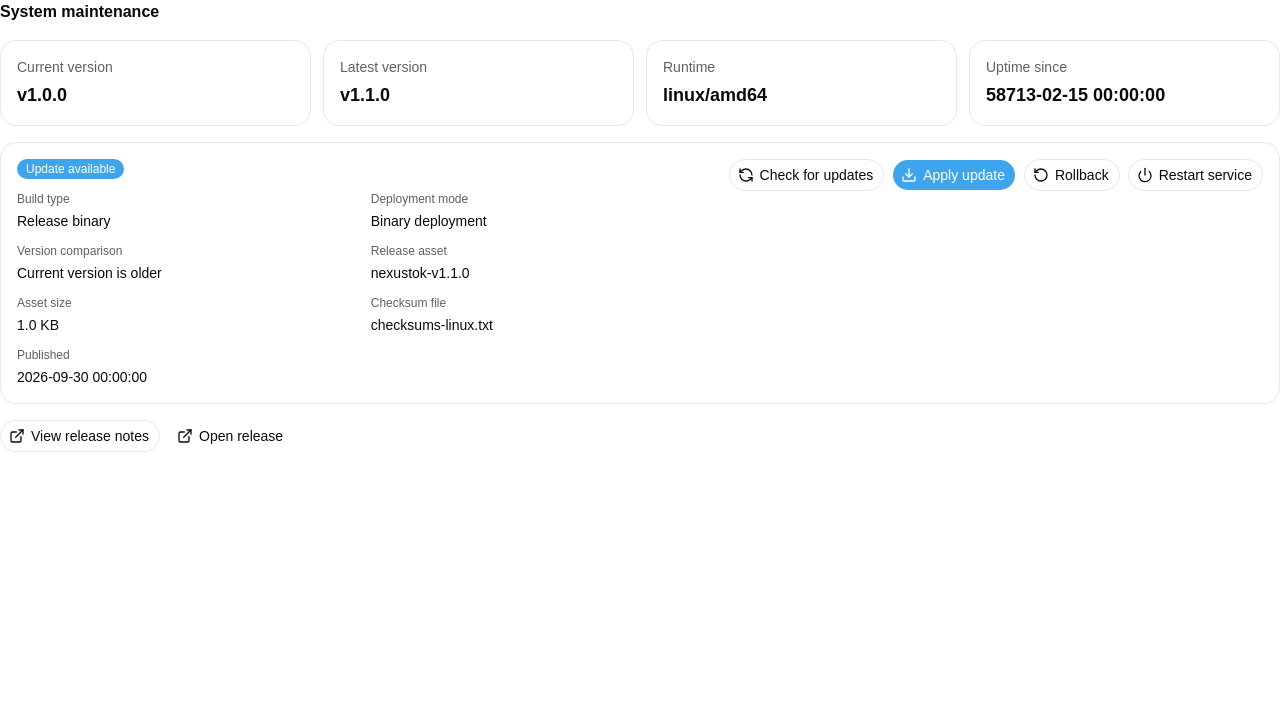
Test: UpdateCheckerSection › requires confirmation before applying an update and polls the system task
Expected: the text "v1.1.0" is shown, [340,85,390,105]
Click the button "Apply update": point(954, 175) [892,159,1016,191]
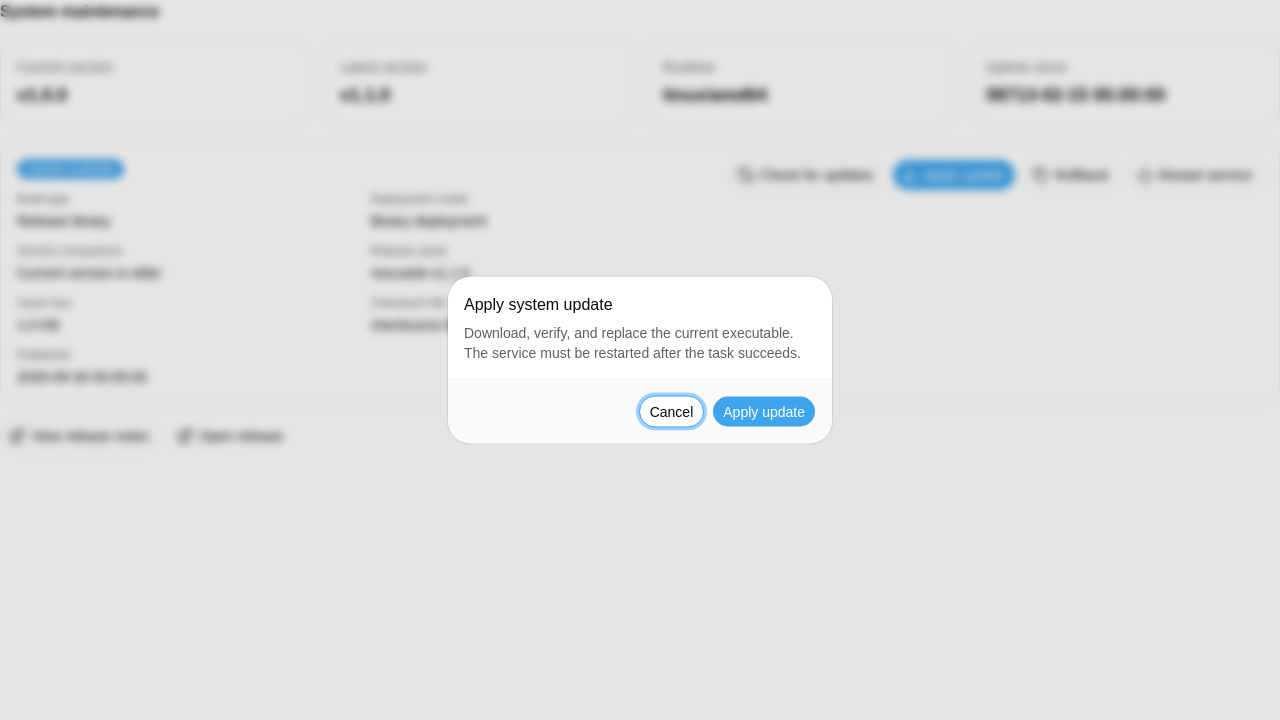
Click the button "Apply update": point(764, 412) [712,396,816,428]
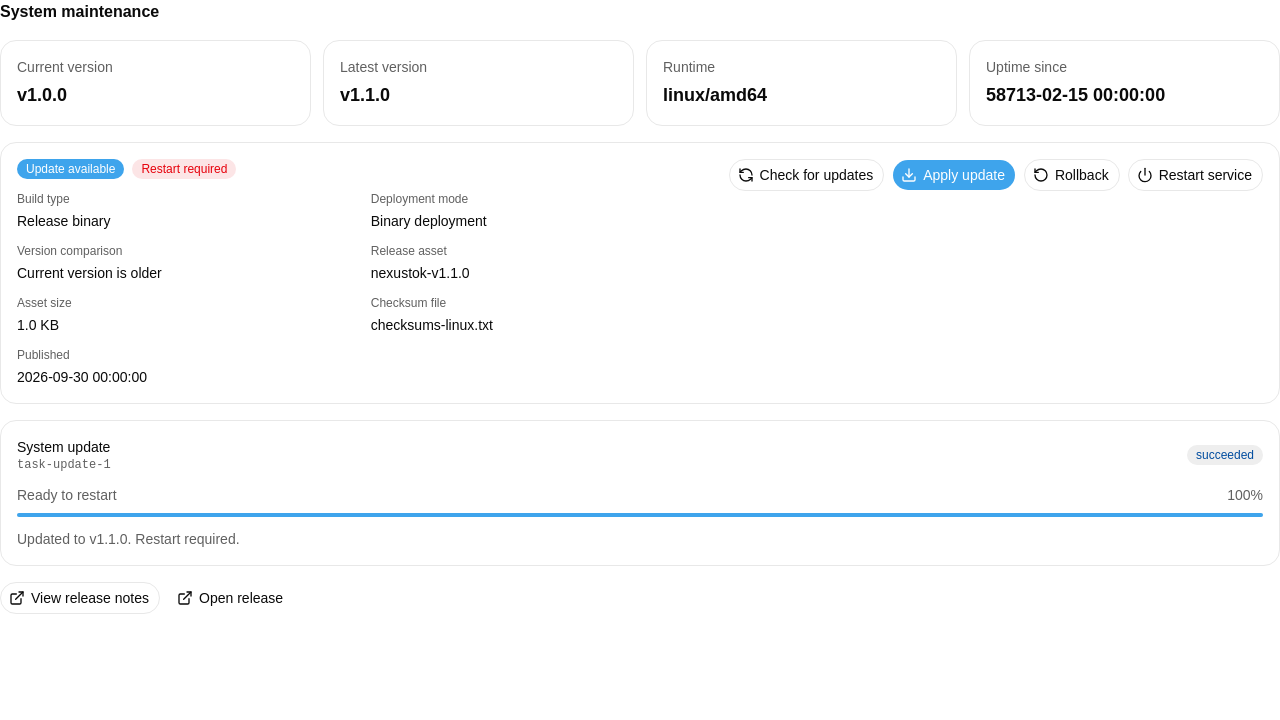
Result: the text "100%" is shown at [1227,485,1263,505]
Result: the text "Updated to v1.1.0. Restart required." is shown at [17,531,240,547]
